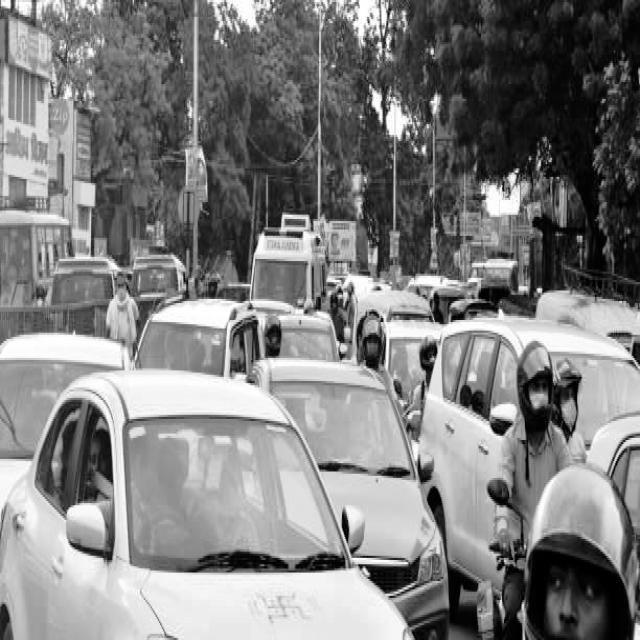Ambulance: (263, 218, 305, 270), (265, 239, 302, 260)
